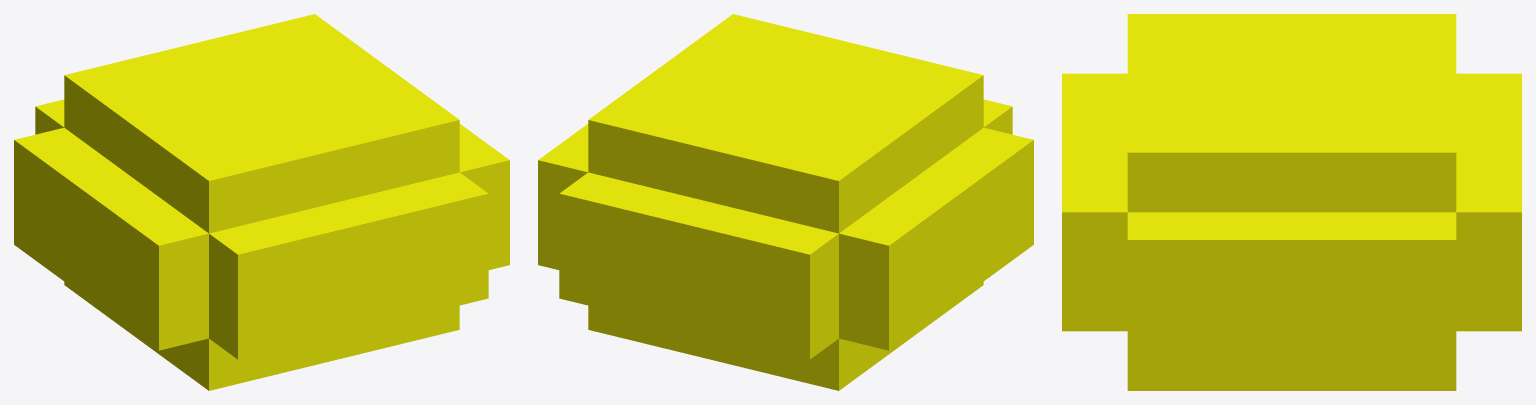
Rendered from voxel-village-pie.glb.
3 renders of one model, left to right at view 1: azimuth 30°, elevation 25°; view 2: azimuth 150°, elevation 25°; view 3: azimuth 270°, elevation 25°, orthographic. The views are drawn at different scales.
Visible parts, largest first — view 1: VS_Villagers_Pie; view 2: VS_Villagers_Pie; view 3: VS_Villagers_Pie.
Part boxes in pixels (<box>): VS_Villagers_Pie: <box>14,14,509,390</box>; VS_Villagers_Pie: <box>538,14,1033,390</box>; VS_Villagers_Pie: <box>1062,14,1521,390</box>.
Size of the model in its own units: 0.7 by 0.4 by 0.7.
